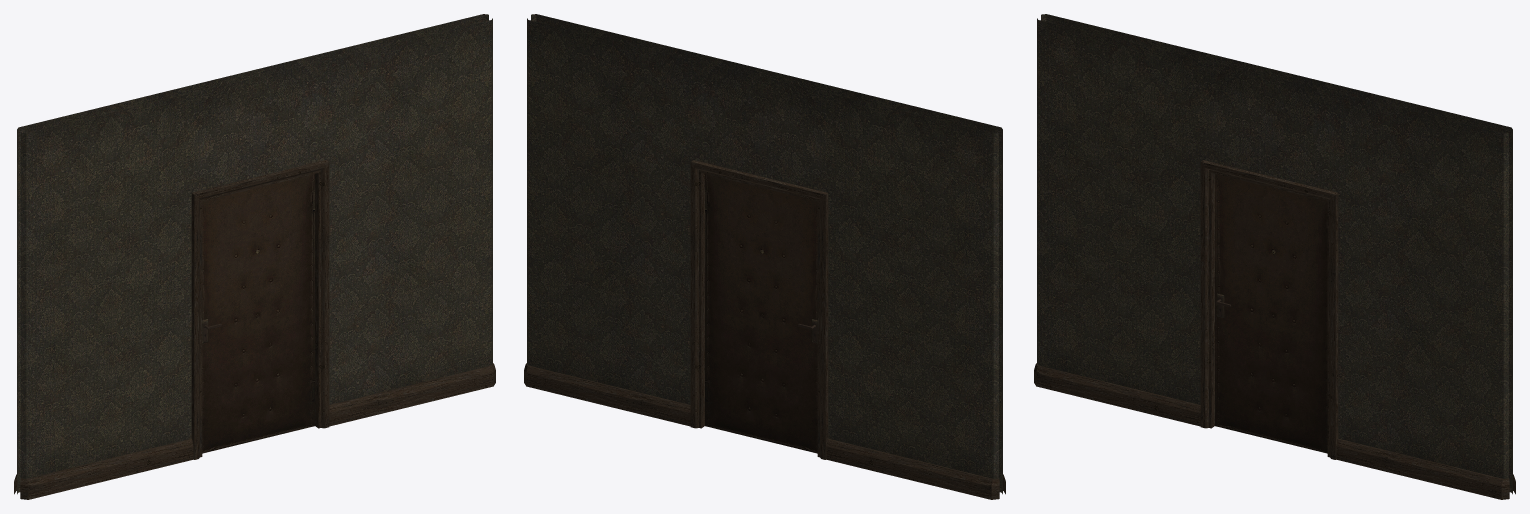
File: doorway_door_mp_1.glb
3 views of the same model, side by side, from view 1: azimuth 30°, elevation 25°; view 2: azimuth 150°, elevation 25°; view 3: azimuth 330°, elevation 25° (orthographic).
Parts seen in each view (by area): view 1: doorway_door_mp_1, door_mp_1; view 2: doorway_door_mp_1, door_mp_1; view 3: doorway_door_mp_1, door_mp_1.
Part boxes in pixels (box(x1,y1,x2,y2)): doorway_door_mp_1: box(14, 14, 495, 499); door_mp_1: box(202, 174, 314, 453); doorway_door_mp_1: box(524, 14, 1005, 499); door_mp_1: box(705, 174, 817, 453); doorway_door_mp_1: box(1034, 14, 1515, 499); door_mp_1: box(1215, 174, 1327, 453).
Bounding box in the file's own units: 4.09 × 3 × 0.2.
Materials: 4 (4 with a texture image).
